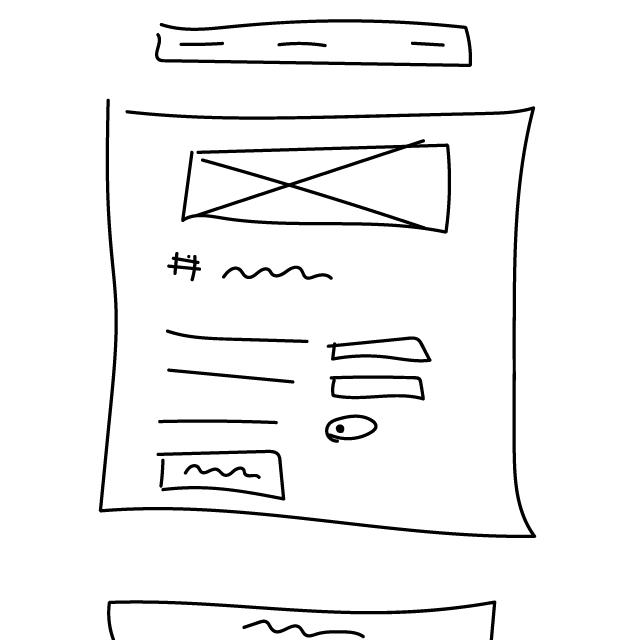button: (155, 447, 296, 505)
checkbox: (325, 415, 379, 444)
container: (87, 87, 548, 553)
footer: (92, 586, 510, 640)
frame: (180, 138, 458, 240)
heading: (167, 250, 345, 290)
input: (328, 370, 435, 406), (330, 337, 437, 365)
nav: (149, 12, 484, 74)
text: (155, 326, 312, 430)
